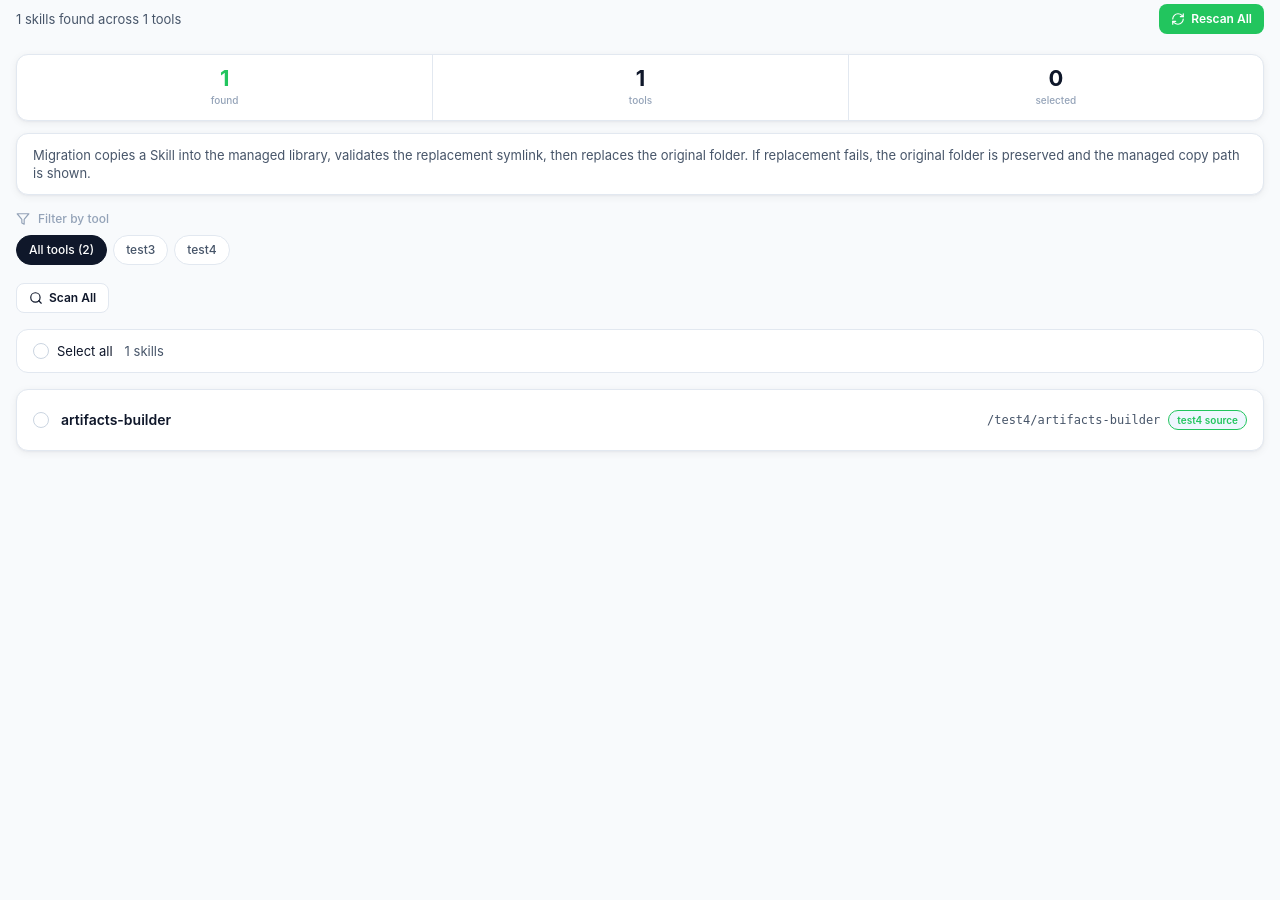
MigratePage › removes a migrated source row and reports unrelated tool sync failures
The image size is (1280, 900).
Expected: the text "artifacts-builder" is shown, [61, 411, 171, 428]
Click the checkbox named "Select artifacts-builder". click: [41, 420]
box: [33, 412, 49, 428]
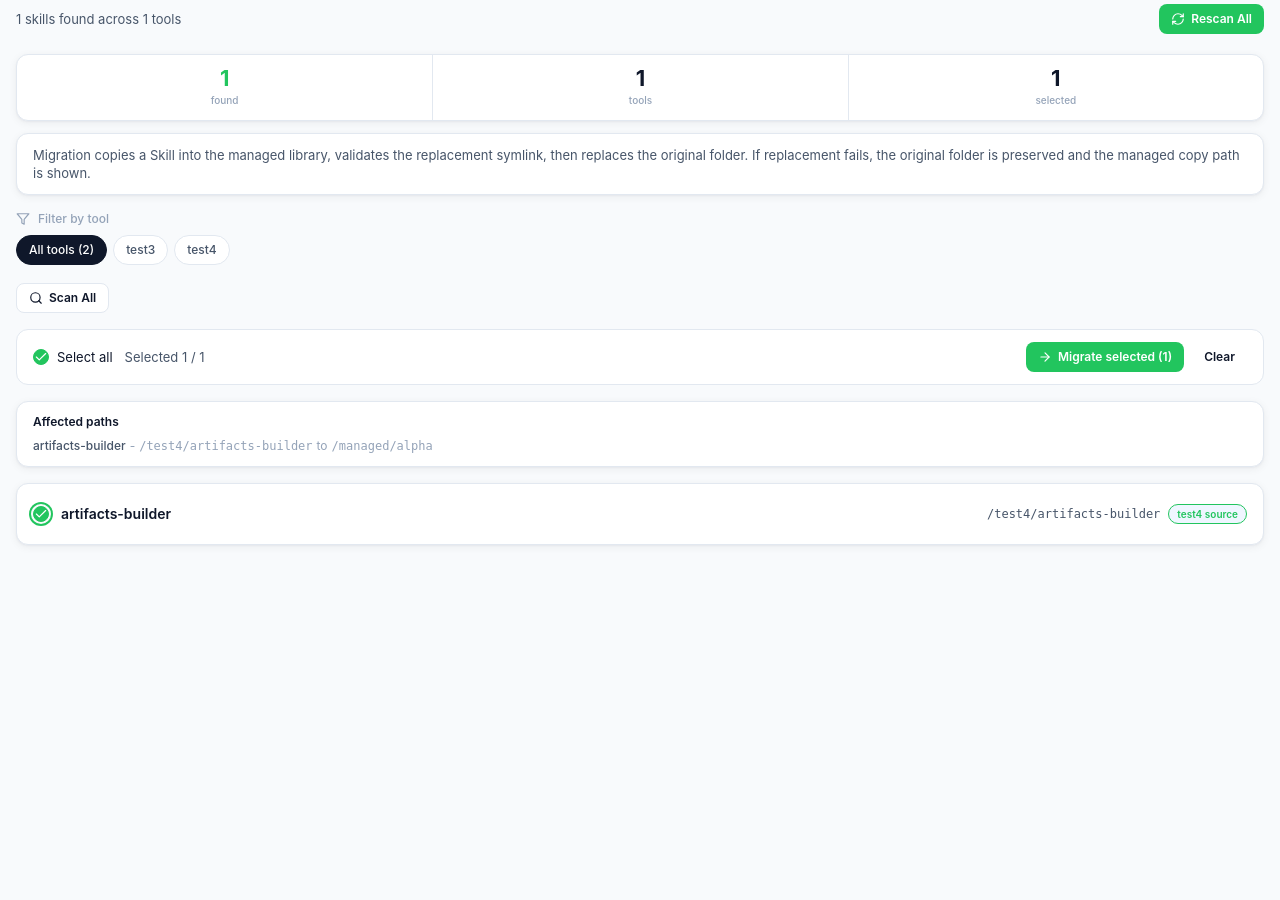
Click the button "Migrate selected (1)". click: [1105, 357]
box: [1026, 342, 1184, 372]
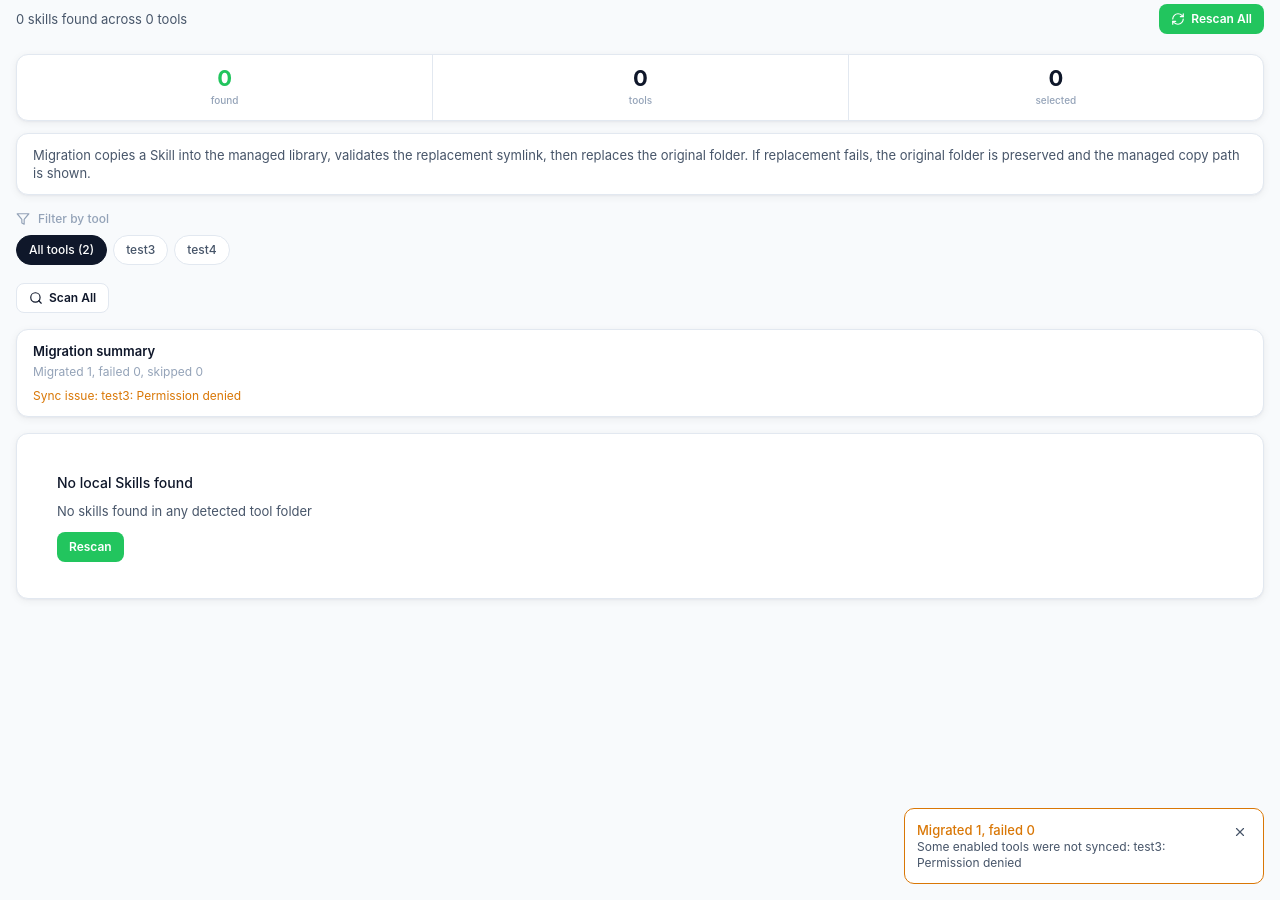
Now the text "artifacts-builder" is gone
Now the text "Migrated 1, failed 0, skipped 0" is shown, box [33, 364, 203, 379]
Now the text "Sync issue: test3: Permission denied" is shown, box [33, 388, 241, 404]
